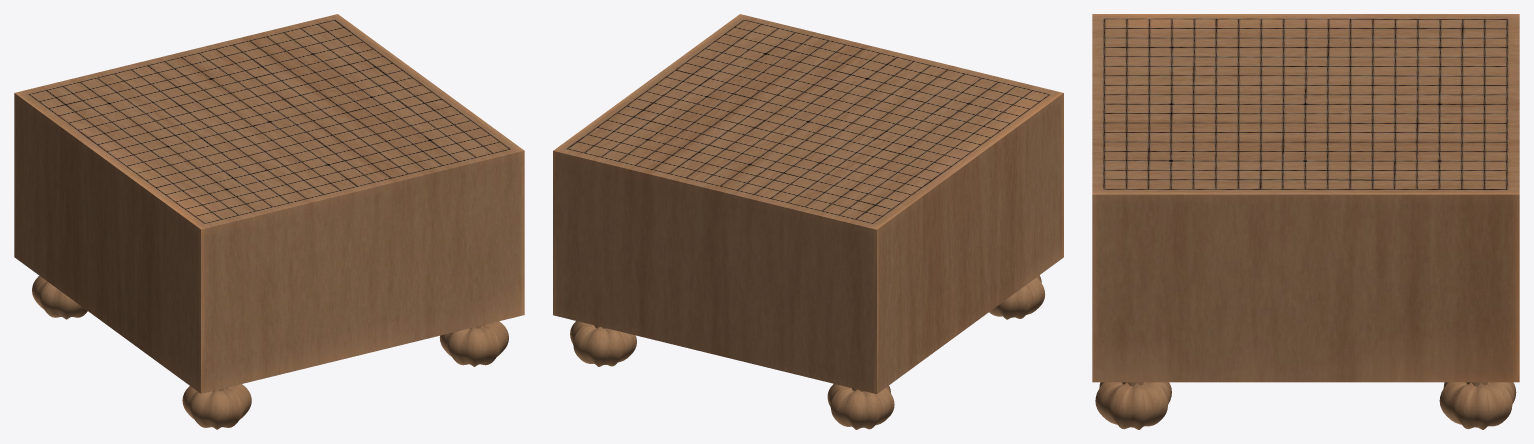
The model's file is go_board.glb.
3 views of the same model, side by side, from view 1: azimuth 30°, elevation 25°; view 2: azimuth 150°, elevation 25°; view 3: azimuth 270°, elevation 25° (orthographic). The views are drawn at different scales.
Parts seen in each view (by area): view 1: pCube1, pCylinder1; view 2: pCube1, pCylinder1; view 3: pCube1, pCylinder1.
Part boxes in pixels (<box>): pCube1: <box>14,14,524,393</box>; pCylinder1: <box>32,276,508,429</box>; pCube1: <box>553,14,1063,394</box>; pCylinder1: <box>570,275,1045,429</box>; pCube1: <box>1092,14,1519,382</box>; pCylinder1: <box>1095,382,1516,429</box>.
Size of the model in its own units: 0.9028 by 0.5773 by 0.9028.
Materials: 2 (2 with a texture image).
